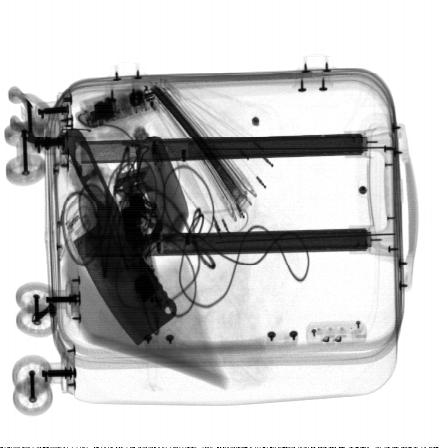Knife: (61, 127, 178, 347)
